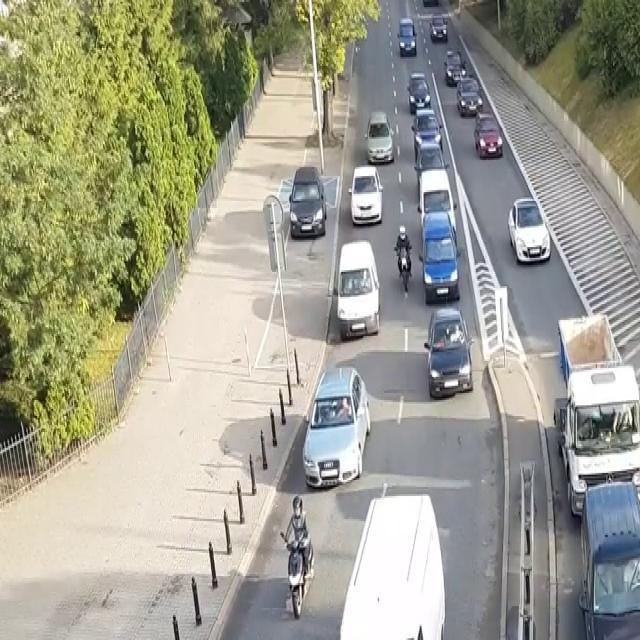car: (331, 487, 448, 640), (577, 482, 640, 640), (303, 365, 373, 490), (425, 306, 473, 399), (338, 240, 380, 338), (420, 209, 460, 302), (508, 195, 552, 266), (289, 164, 328, 238), (418, 168, 457, 232), (349, 165, 384, 225), (364, 110, 394, 163), (412, 107, 444, 155), (474, 111, 504, 160), (456, 75, 484, 117), (443, 48, 468, 87), (408, 70, 431, 112), (398, 18, 418, 58), (428, 13, 448, 44)
motorbike: (279, 495, 317, 619), (394, 225, 413, 292)
van: (551, 310, 640, 518)
